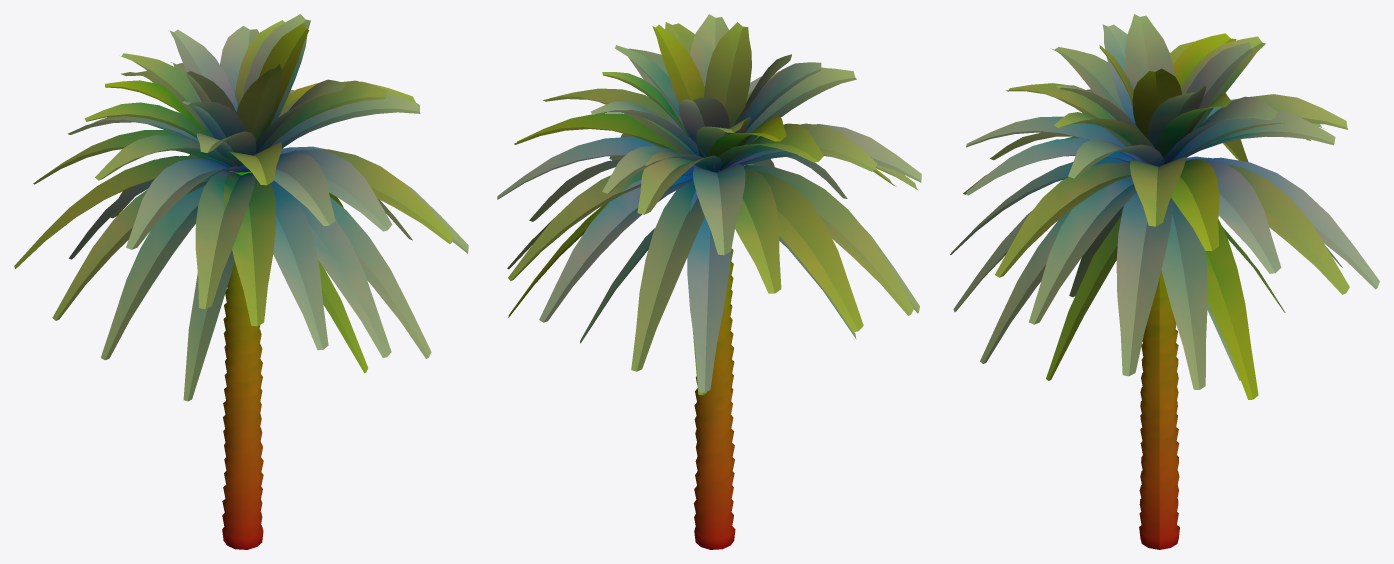
The model's file is palm_lod0.glb.
The picture shows the model from 3 angles, left to right: view 1: azimuth 30°, elevation 25°; view 2: azimuth 150°, elevation 25°; view 3: azimuth 270°, elevation 25°; orthographic projection.
Visible parts, largest first — view 1: palm_lod0; view 2: palm_lod0; view 3: palm_lod0.
Part boxes in pixels (x1,y1,x2,y2): palm_lod0: [14, 14, 468, 549]; palm_lod0: [497, 14, 921, 549]; palm_lod0: [950, 14, 1379, 549].
Bounding box in the file's own units: 8.51 × 10.47 × 8.11.
